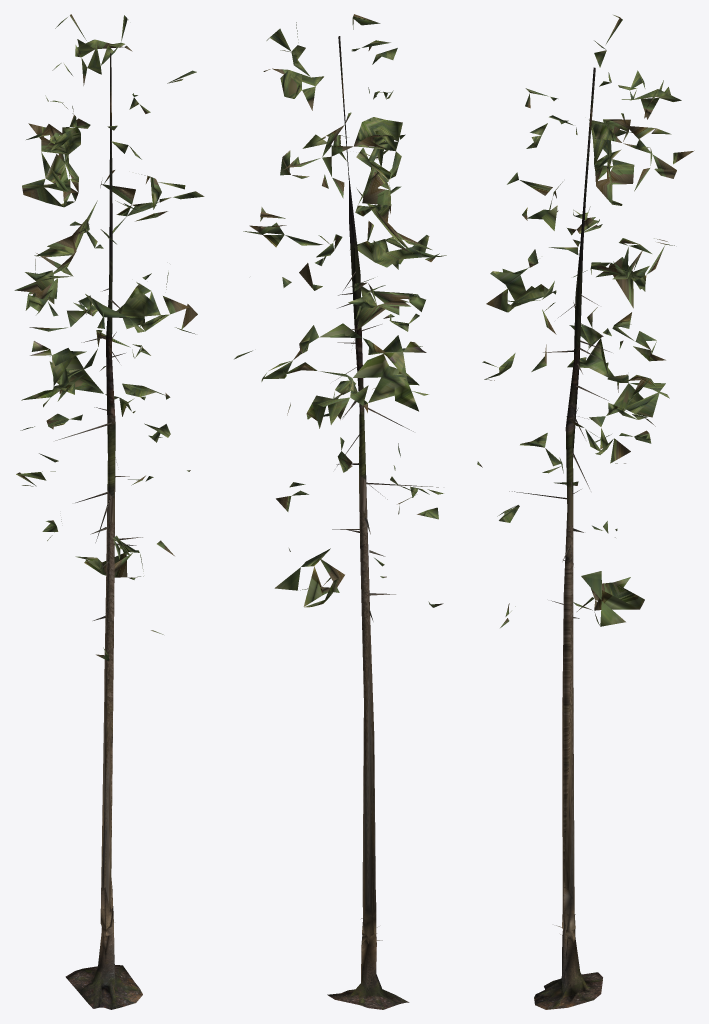
Rendered from fir_tree_01-a-far.gltf.
3 views of the same model, side by side, from view 1: azimuth 30°, elevation 25°; view 2: azimuth 150°, elevation 25°; view 3: azimuth 270°, elevation 25° (orthographic). The views are drawn at different scales.
Visible parts, largest first — view 1: fir_tree_01_a_LOD0; view 2: fir_tree_01_a_LOD0; view 3: fir_tree_01_a_LOD0.
Part boxes in pixels (<box>): fir_tree_01_a_LOD0: <box>14,14,204,1009</box>; fir_tree_01_a_LOD0: <box>234,14,446,1009</box>; fir_tree_01_a_LOD0: <box>477,15,694,1009</box>.
Size of the model in its own units: 3.19 by 18.24 by 3.68.
Materials: 4 (4 with a texture image).
